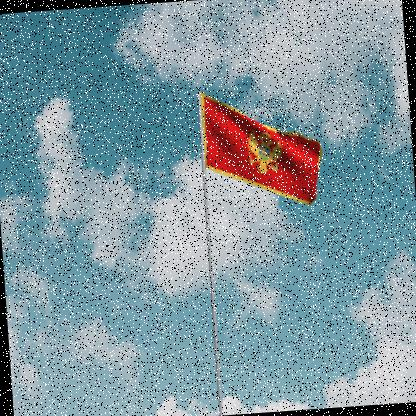me: (202, 85, 329, 216)
